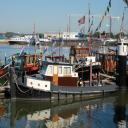tugboat: (11, 27, 121, 103)
